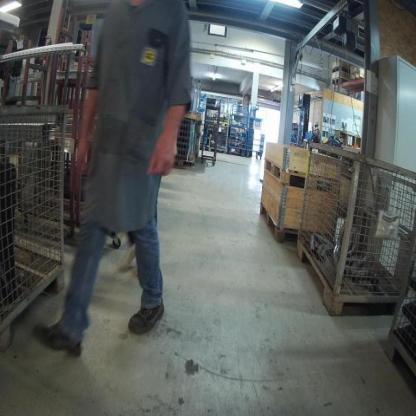pallets: (294, 229, 401, 317), (262, 154, 334, 193), (258, 195, 300, 244)
